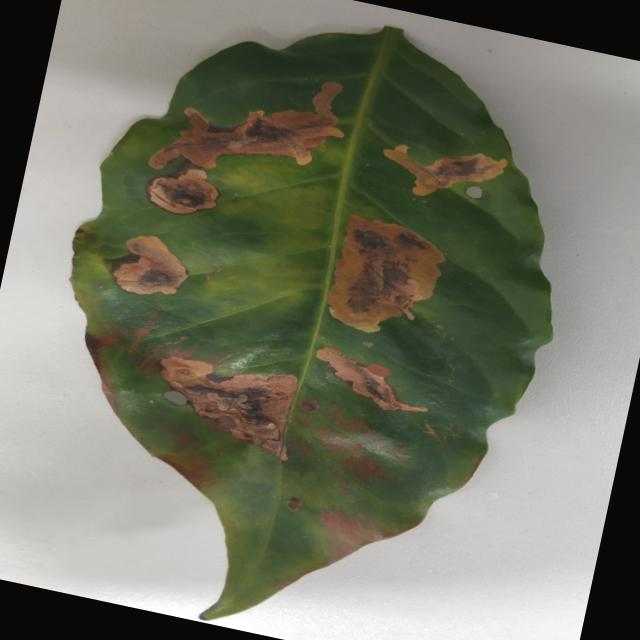PengorokDaunKopi: (149, 82, 343, 168), (161, 356, 297, 460), (328, 215, 444, 332), (316, 347, 427, 411), (383, 145, 507, 195), (114, 236, 187, 294), (320, 511, 389, 561), (298, 399, 318, 413)
